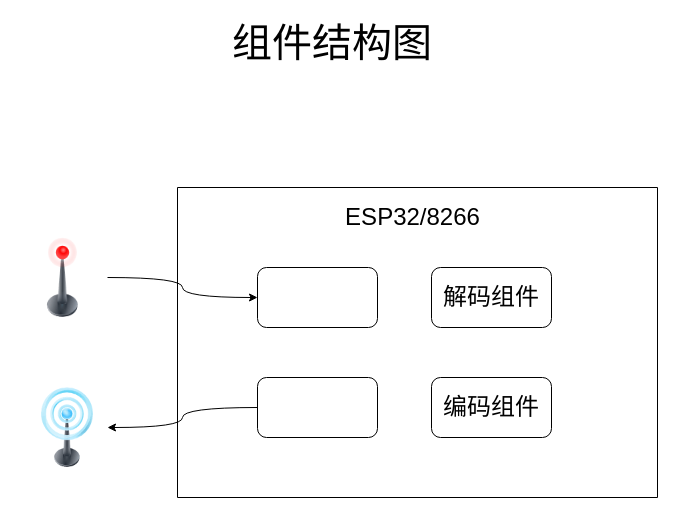
Some shapes in this 675 by 515 pixel diagram are drawn without their labels. The shapes that lost their labels are listed below. From the top down, each one's box as (x1, y1, x2, y2) in pixels, then its label:
(256, 266, 378, 328): 采码组件
(256, 376, 378, 438): 发送组件
